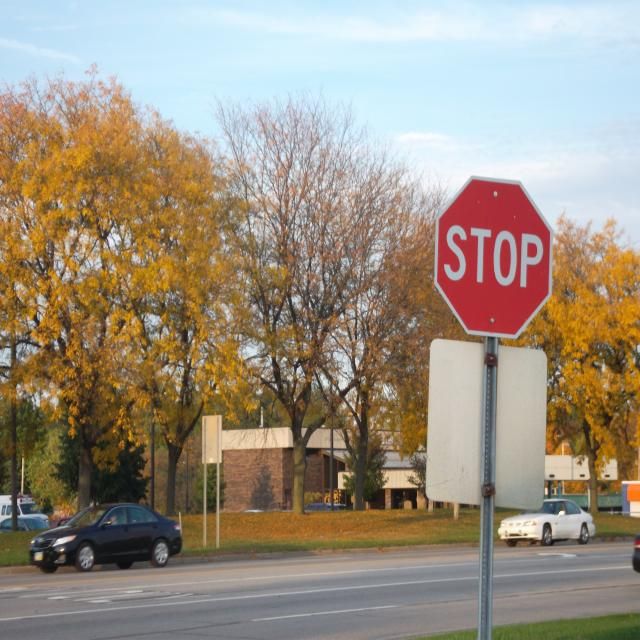stop: (433, 173, 558, 337), (430, 251, 431, 252)
